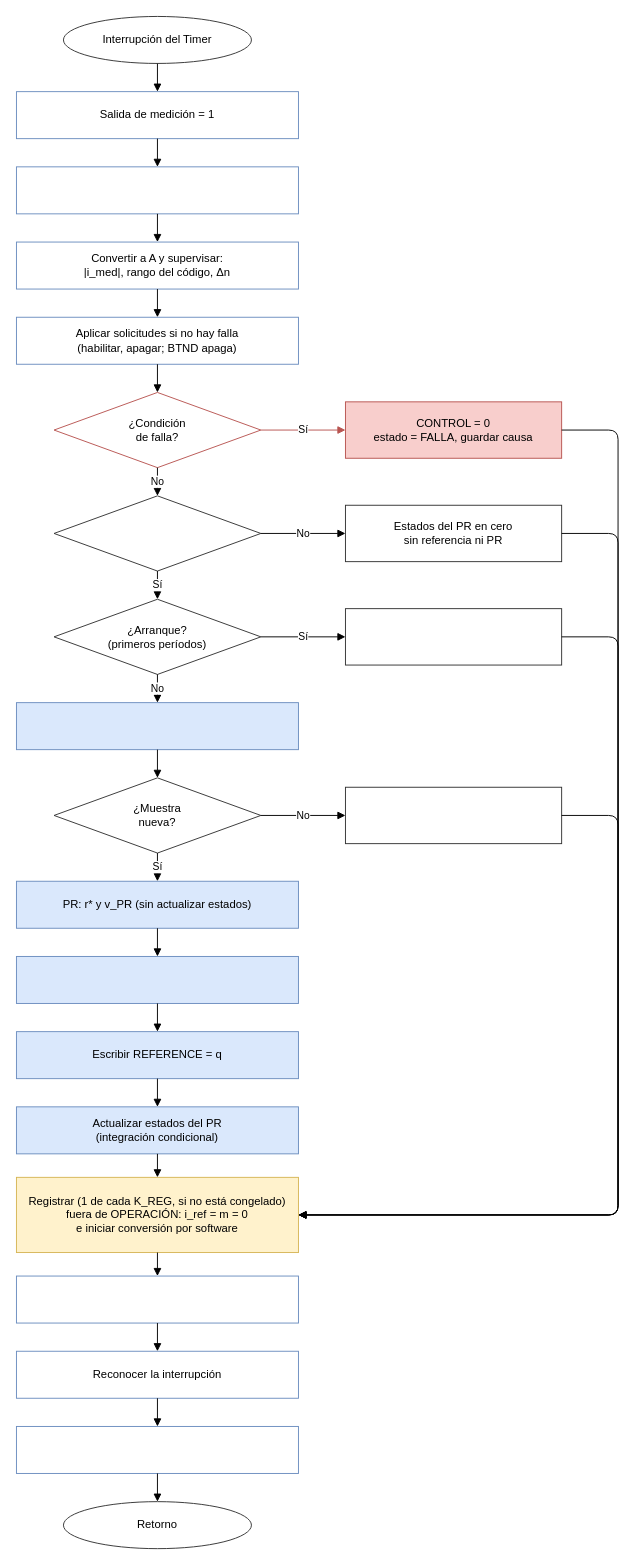
The diagram is 642 pixels wide and 1565 high, and some of its shapes have lost their labels. Each missing label, with the centre of its shape:
"Leer ADC: código, n y estado" belongs at point 157,190.
"m = sat(v_PR / Vdc) → q en Q1.15" belongs at point 157,979.
"Medir duración con el Timer actualizar t_isr_max y supervisar" belongs at point 157,1299.
"No ejecutar el PR mantener REFERENCE" belongs at point 453,815.
"REFERENCE = 0 (carga del bootstrap) al terminar: θ = 0 y amplitud activa" belongs at point 453,636.
"Referencia: θ += Δθ en cada iteración amplitud nueva si θ da la vuelta" belongs at point 157,726.
"Salida de medición = 0" belongs at point 157,1449.
"¿Estado = OPERACIÓN?" belongs at point 157,533.
